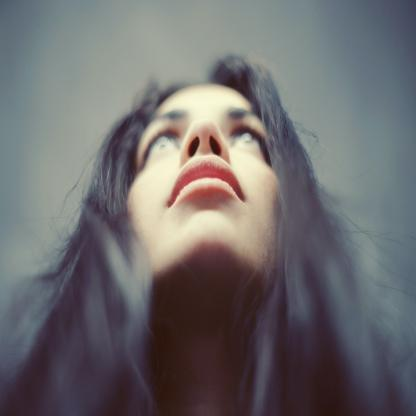Eye: (135, 126, 180, 170), (231, 124, 271, 160)
Mouth: (163, 158, 248, 206)
Nose: (179, 117, 229, 167)
